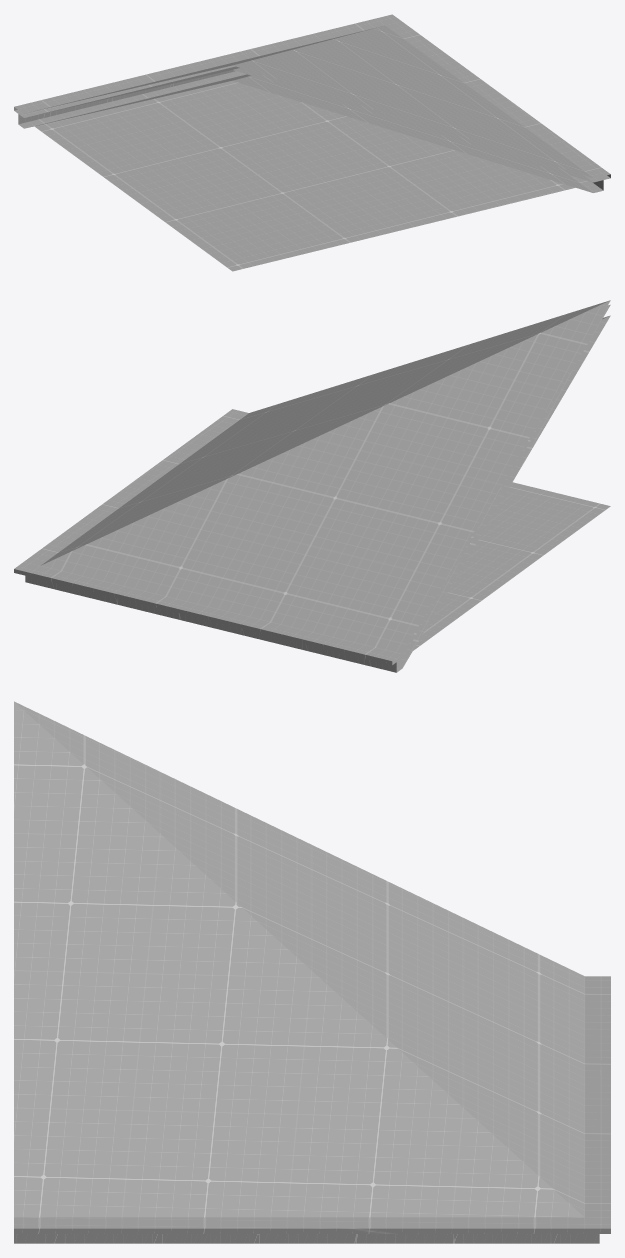
File: Roof.006.fbx
3 views of the same model, one above another, from view 1: azimuth 30°, elevation 25°; view 2: azimuth 150°, elevation 25°; view 3: azimuth 270°, elevation 25° (orthographic). The views are drawn at different scales.
Parts seen in each view (by area): view 1: Roof.006; view 2: Roof.006; view 3: Roof.006.
Boxes of the visible parts, x1,y1,x2,y2 form: Roof.006: [14, 14, 610, 271]; Roof.006: [14, 300, 610, 672]; Roof.006: [14, 701, 610, 1243].
Size of the model in its own units: 353 by 192 by 353.
